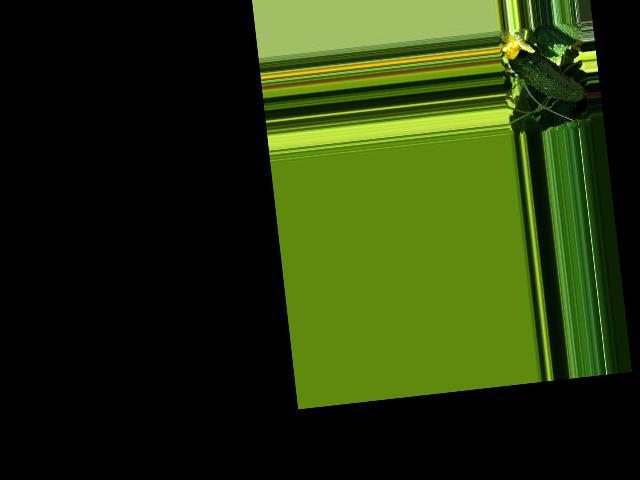cucumber: (506, 35, 590, 109)
